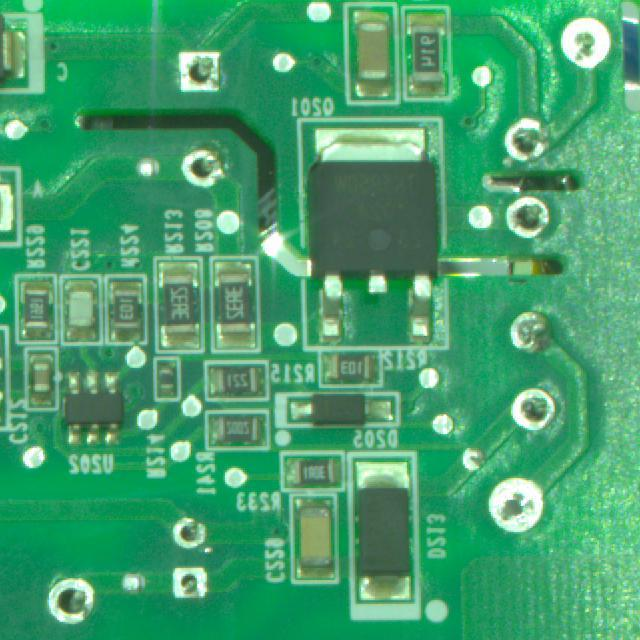Insufficient solder: (478, 470, 549, 545), (173, 41, 233, 104), (43, 571, 99, 632), (500, 380, 561, 434), (496, 194, 557, 245), (559, 13, 613, 69), (505, 112, 554, 165), (176, 143, 227, 191), (165, 562, 212, 611), (164, 509, 211, 555)
